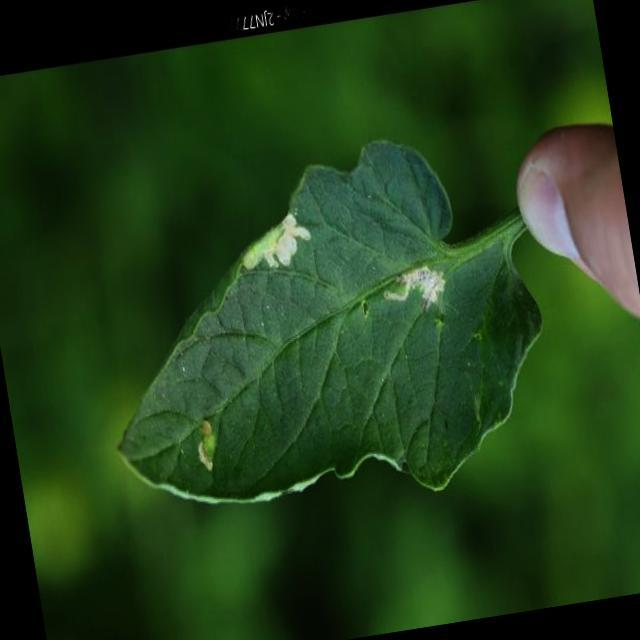Tomato target spot leaf: (71, 114, 572, 546)
